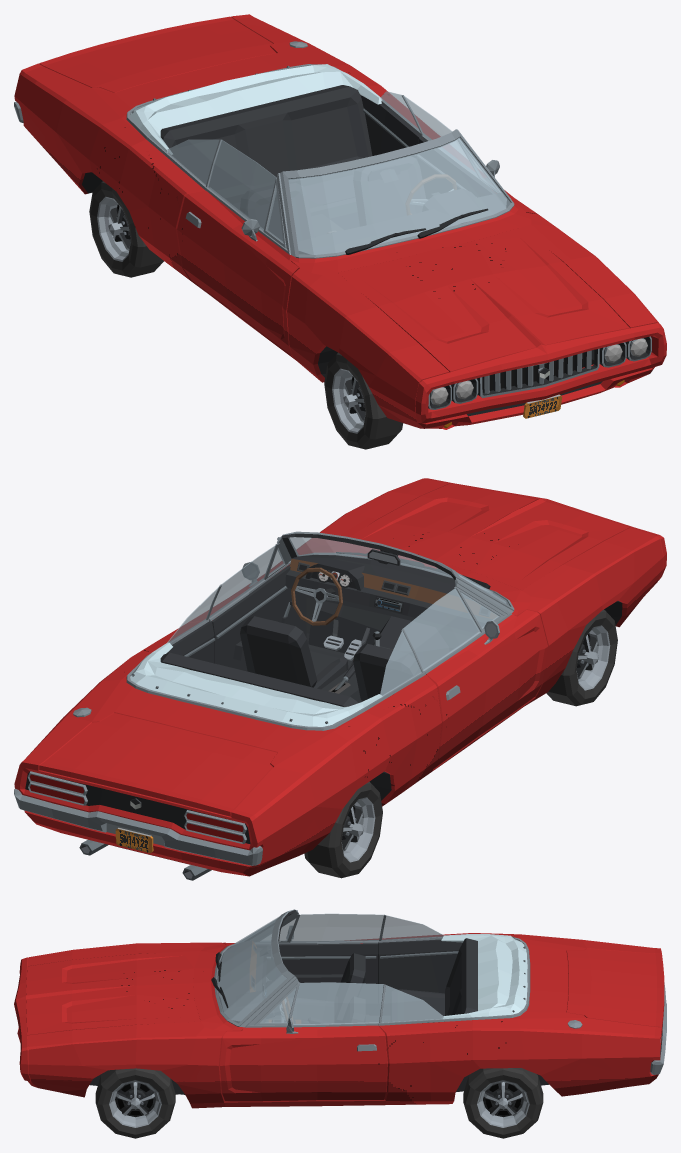
The model's file is car-sr-muscle.glb.
3 views of the same model, one above another, from view 1: azimuth 30°, elevation 25°; view 2: azimuth 150°, elevation 25°; view 3: azimuth 270°, elevation 25° (orthographic). The views are drawn at different scales.
Parts seen in each view (by area): view 1: SK_Veh_Preset_Muscle_01, SK_Veh_Muscle_01_Bonnet_01, SK_Veh_Muscle_01_Roof_03_Glass, SK_Veh_Muscle_01_Front_Bumper_01, SK_Veh_Muscle_01_Roof_03, SK_Veh_Muscle_01_Door_R, SK_Veh_Muscle_01_Boot, SK_Veh_Muscle_01_Seats_01, SK_Veh_Muscle_01_Wheel_fr, SK_Veh_Muscle_01_Wheel_rr, SK_Veh_Muscle_01_Door_R_Glass_1, SK_Veh_Muscle_01_Door_L (+1 smaller); view 2: SK_Veh_Preset_Muscle_01, SK_Veh_Muscle_01_Bonnet_01, SK_Veh_Muscle_01_Boot, SK_Veh_Muscle_01_Door_R, SK_Veh_Muscle_01_Roof_03, SK_Veh_Muscle_01_Seats_01, SK_Veh_Muscle_01_Door_L, SK_Veh_Muscle_01_Wheel_rr, SK_Veh_Muscle_01_Rear_Bumper_01, SK_Veh_Muscle_01_Roof_03_Glass, SK_Veh_Muscle_01_Wheel_fr, SK_Veh_Muscle_01_Door_R_Glass_1 (+4 smaller); view 3: SK_Veh_Preset_Muscle_01, SK_Veh_Muscle_01_Door_L, SK_Veh_Muscle_01_Bonnet_01, SK_Veh_Muscle_01_Roof_03, SK_Veh_Muscle_01_Boot, SK_Veh_Muscle_01_Roof_03_Glass, SK_Veh_Muscle_01_Door_R, SK_Veh_Muscle_01_Wheel_rl, SK_Veh_Muscle_01_Wheel_fl, SK_Veh_Muscle_01_Door_L_Glass_1, SK_Veh_Muscle_01_Seats_01, SK_Veh_Muscle_01_Door_R_Glass_1 (+3 smaller).
Part boxes in pixels (x1=…): SK_Veh_Preset_Muscle_01: x1=14, y1=14, x2=659, y2=428; SK_Veh_Muscle_01_Bonnet_01: x1=337, y1=227, x2=629, y2=372; SK_Veh_Muscle_01_Roof_03_Glass: x1=165, y1=91, x2=510, y2=254; SK_Veh_Muscle_01_Front_Bumper_01: x1=415, y1=323, x2=666, y2=429; SK_Veh_Muscle_01_Roof_03: x1=126, y1=64, x2=514, y2=258; SK_Veh_Muscle_01_Door_R: x1=177, y1=178, x2=298, y2=355; SK_Veh_Muscle_01_Boot: x1=39, y1=16, x2=276, y2=92; SK_Veh_Muscle_01_Seats_01: x1=240, y1=156, x2=425, y2=241; SK_Veh_Muscle_01_Wheel_fr: x1=324, y1=352, x2=403, y2=449; SK_Veh_Muscle_01_Wheel_rr: x1=89, y1=181, x2=163, y2=277; SK_Veh_Muscle_01_Door_R_Glass_1: x1=208, y1=139, x2=276, y2=230; SK_Veh_Muscle_01_Door_L: x1=417, y1=133, x2=539, y2=215; SK_Veh_Preset_Muscle_01: x1=14, y1=479, x2=663, y2=876; SK_Veh_Muscle_01_Bonnet_01: x1=338, y1=483, x2=629, y2=590; SK_Veh_Muscle_01_Boot: x1=39, y1=713, x2=276, y2=816; SK_Veh_Muscle_01_Door_R: x1=419, y1=586, x2=548, y2=768; SK_Veh_Muscle_01_Roof_03: x1=126, y1=531, x2=514, y2=730; SK_Veh_Muscle_01_Seats_01: x1=240, y1=616, x2=419, y2=701; SK_Veh_Muscle_01_Door_L: x1=188, y1=543, x2=306, y2=671; SK_Veh_Muscle_01_Wheel_rr: x1=304, y1=781, x2=382, y2=878; SK_Veh_Muscle_01_Rear_Bumper_01: x1=14, y1=788, x2=262, y2=865; SK_Veh_Muscle_01_Roof_03_Glass: x1=167, y1=537, x2=509, y2=697; SK_Veh_Muscle_01_Wheel_fr: x1=546, y1=609, x2=617, y2=706; SK_Veh_Muscle_01_Door_R_Glass_1: x1=403, y1=588, x2=480, y2=670; SK_Veh_Preset_Muscle_01: x1=27, y1=933, x2=664, y2=1108; SK_Veh_Muscle_01_Door_L: x1=220, y1=982, x2=387, y2=1101; SK_Veh_Muscle_01_Bonnet_01: x1=26, y1=951, x2=200, y2=1035; SK_Veh_Muscle_01_Roof_03: x1=214, y1=909, x2=530, y2=1027; SK_Veh_Muscle_01_Boot: x1=566, y1=948, x2=664, y2=1028; SK_Veh_Muscle_01_Roof_03_Glass: x1=216, y1=915, x2=445, y2=1023; SK_Veh_Muscle_01_Door_R: x1=223, y1=914, x2=383, y2=1015; SK_Veh_Muscle_01_Wheel_rl: x1=463, y1=1068, x2=543, y2=1138; SK_Veh_Muscle_01_Wheel_fl: x1=95, y1=1068, x2=175, y2=1138; SK_Veh_Muscle_01_Door_L_Glass_1: x1=291, y1=982, x2=383, y2=1024; SK_Veh_Muscle_01_Seats_01: x1=285, y1=953, x2=365, y2=1023; SK_Veh_Muscle_01_Door_R_Glass_1: x1=290, y1=913, x2=383, y2=942.
Size of the model in its own units: 1.84 by 1.28 by 4.9.
Materials: 3 (2 with a texture image).
